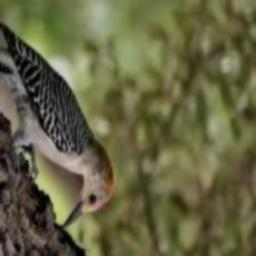Woodpecker: (0, 20, 114, 230)
